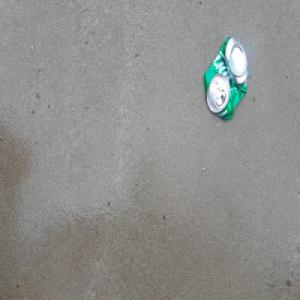SodaCan: (202, 34, 249, 122)
